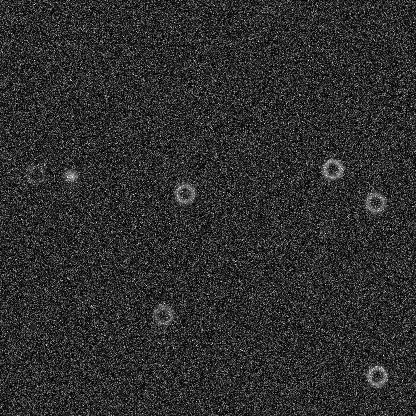Ring: (172, 181, 196, 205), (23, 161, 47, 185), (364, 363, 388, 387), (320, 157, 344, 181), (151, 302, 175, 326), (363, 190, 387, 214)
Spot: (316, 224, 332, 240), (62, 167, 78, 183)
